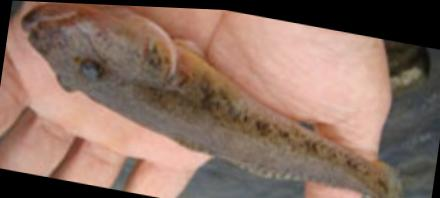fish: (22, 3, 401, 198)
